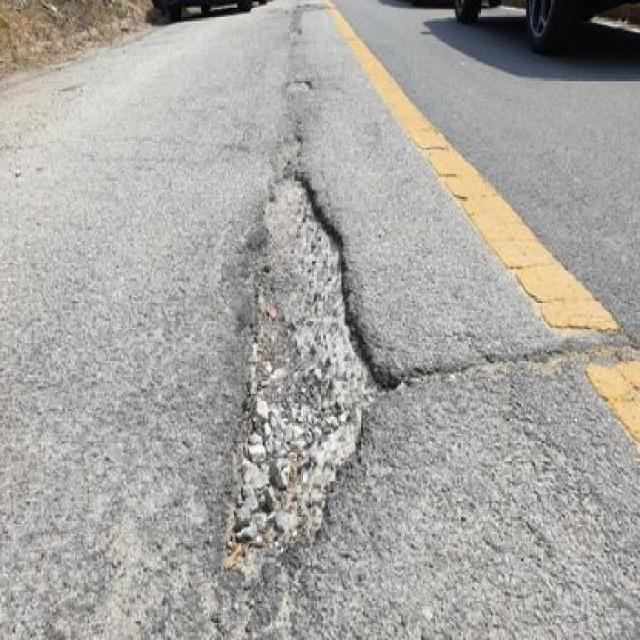Pothole: (228, 157, 383, 565), (282, 74, 320, 100)
